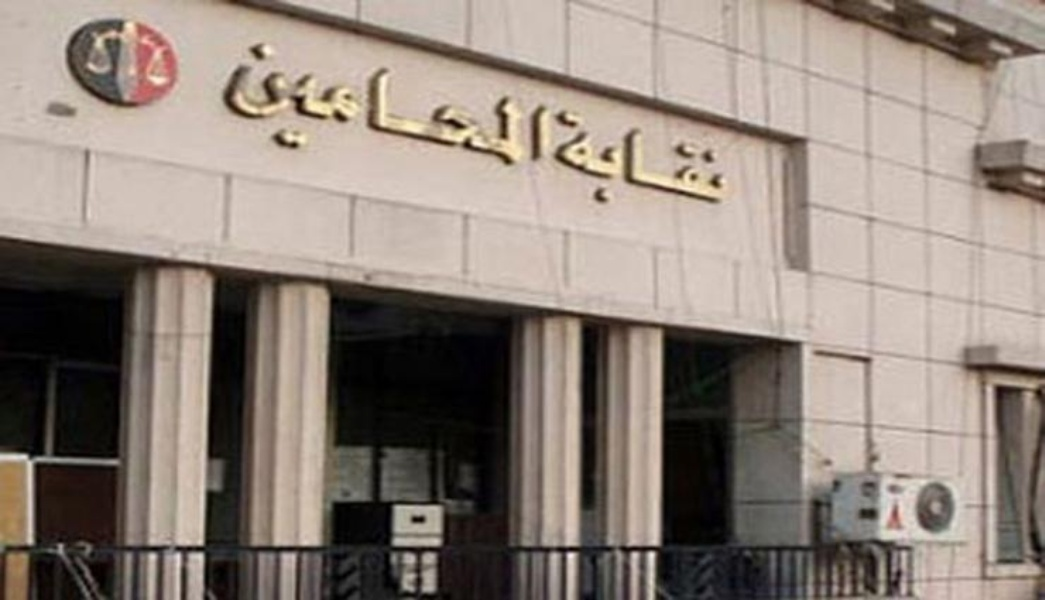text: (225, 32, 240, 201), (241, 32, 256, 201), (257, 32, 272, 201), (273, 32, 288, 201), (289, 32, 304, 201), (305, 32, 320, 201), (321, 32, 336, 201), (337, 32, 352, 201), (353, 32, 368, 201), (369, 32, 384, 201), (385, 32, 400, 201), (401, 32, 416, 201), (417, 32, 432, 201), (433, 32, 448, 201), (449, 32, 464, 201), (465, 32, 480, 201), (481, 32, 496, 201), (497, 32, 512, 201), (513, 32, 528, 201), (529, 32, 544, 201), (561, 98, 576, 231), (577, 98, 592, 231), (593, 98, 608, 231), (609, 98, 624, 231), (625, 98, 640, 231), (641, 98, 656, 231), (657, 98, 672, 231), (673, 98, 688, 231), (689, 98, 704, 231), (705, 98, 720, 231), (721, 98, 735, 231), (545, 32, 554, 201), (553, 98, 560, 231)
